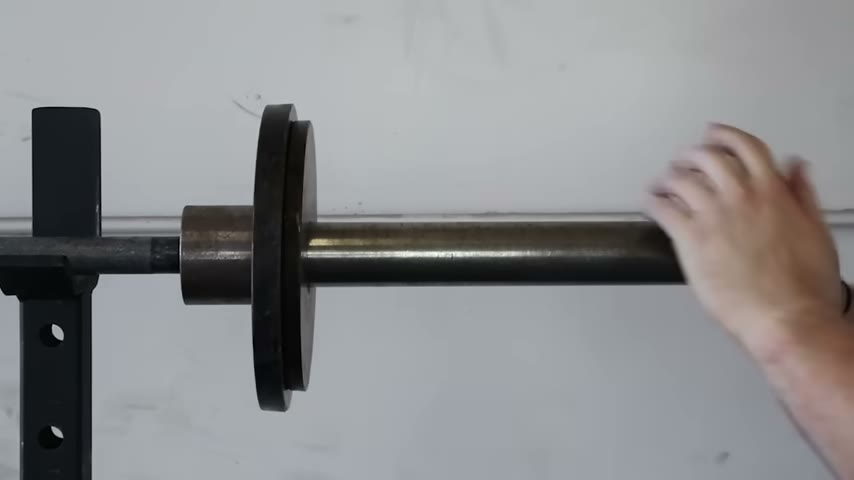barbell_plate_side: (173, 96, 319, 421)
